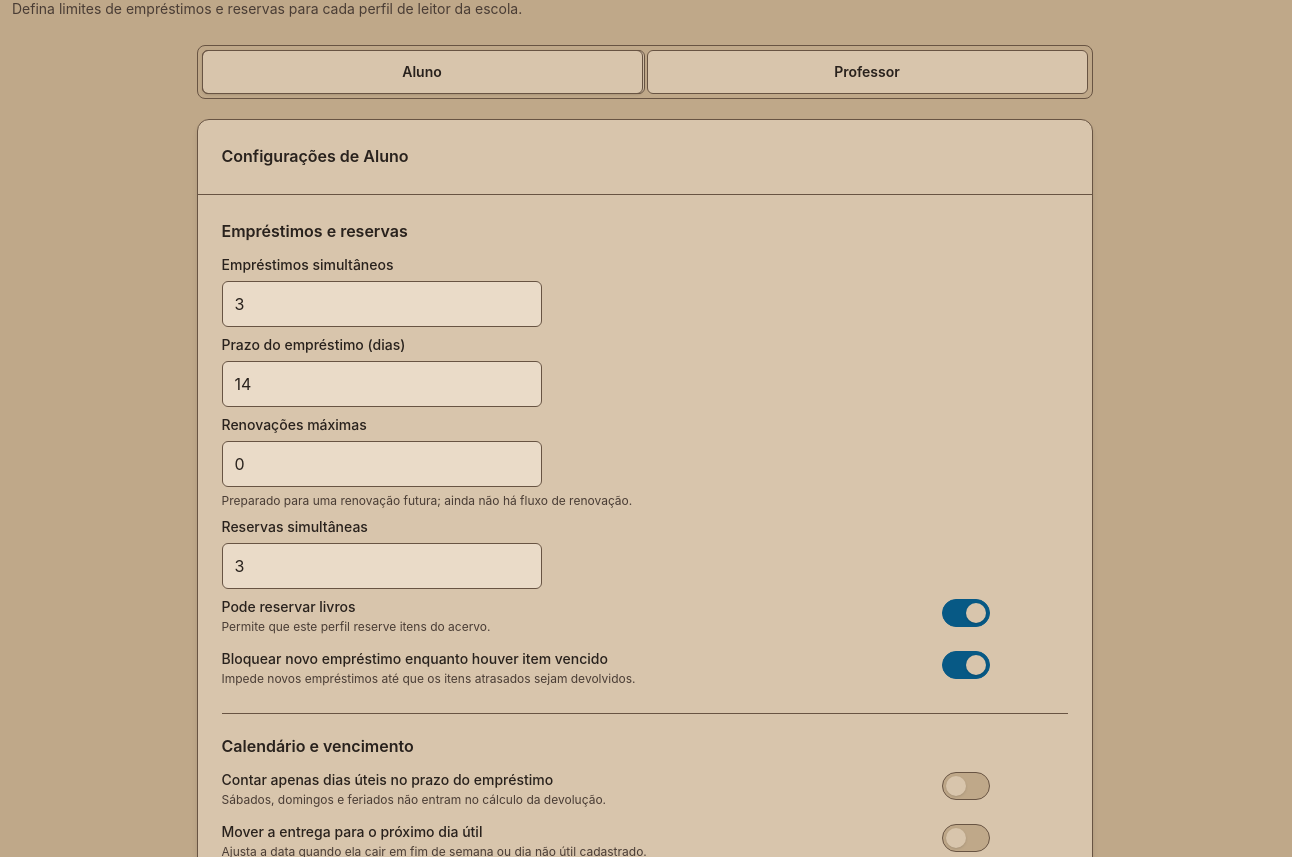
it: CirculationPoliciesPage › shows separate policies and saves both profiles for the own school
Check: the tab "Aluno" is shown, box [202,50,642,94]
Check: the tab "Professor" is shown, box [646,50,1088,94]
Replace the text in the number field labelled "Empréstimos simultâneos" with "2" at (382, 304), box [222,281,542,327]
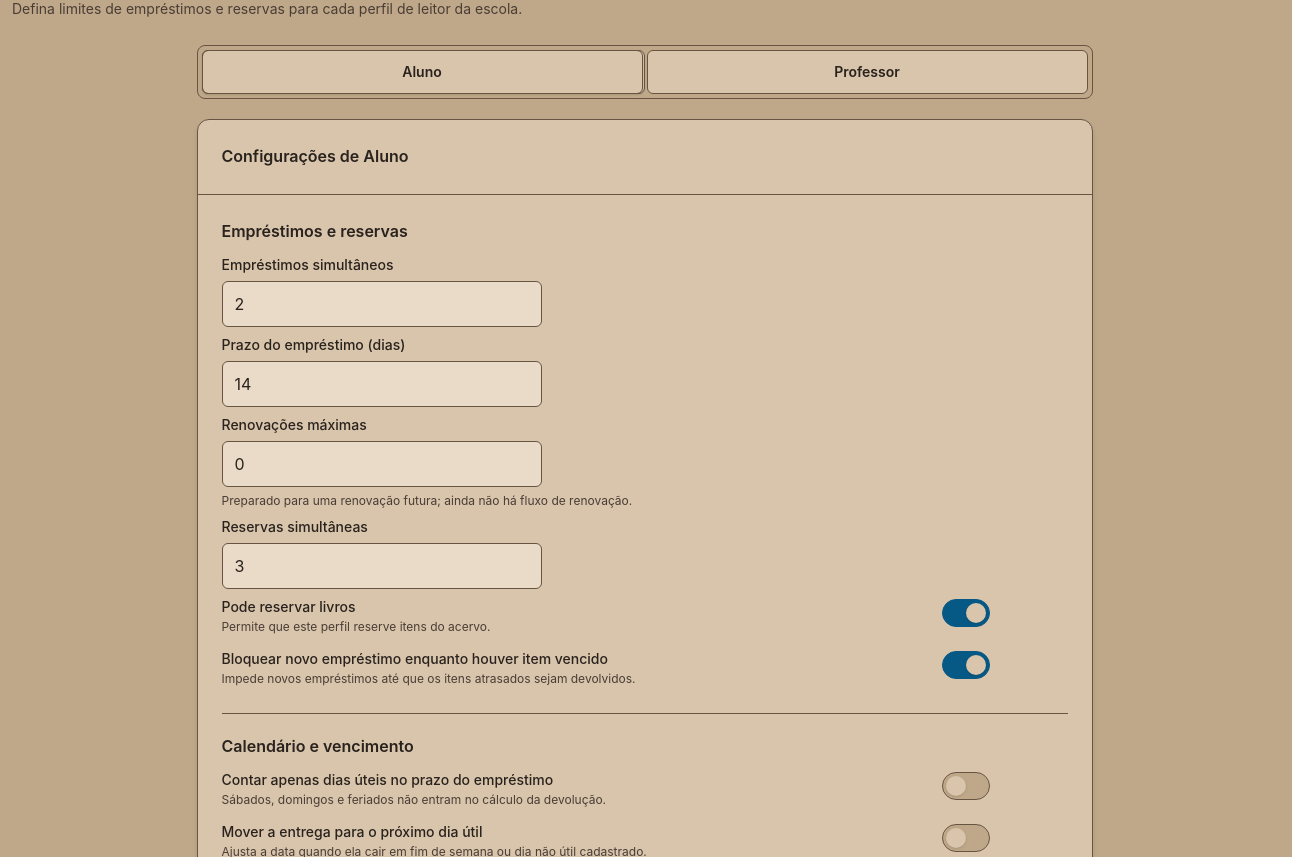
Click the switch labelled "Contar apenas dias úteis no prazo do empréstimo" at (606, 792), box [222,770,990,814]
(page scrolled)
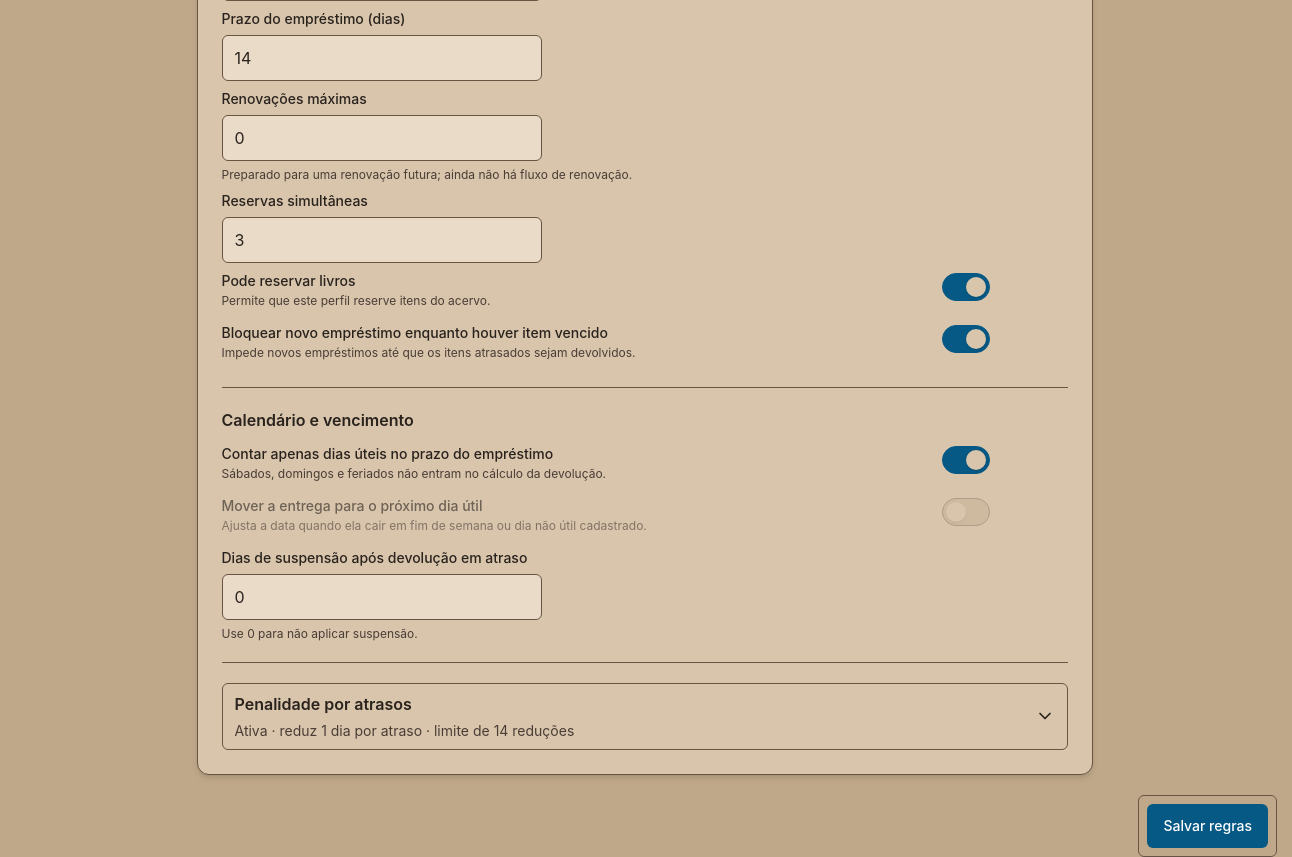
Check: the button "Salvar regras" is enabled
Click the button "Salvar regras" at (1208, 826), box [1147,804,1268,848]
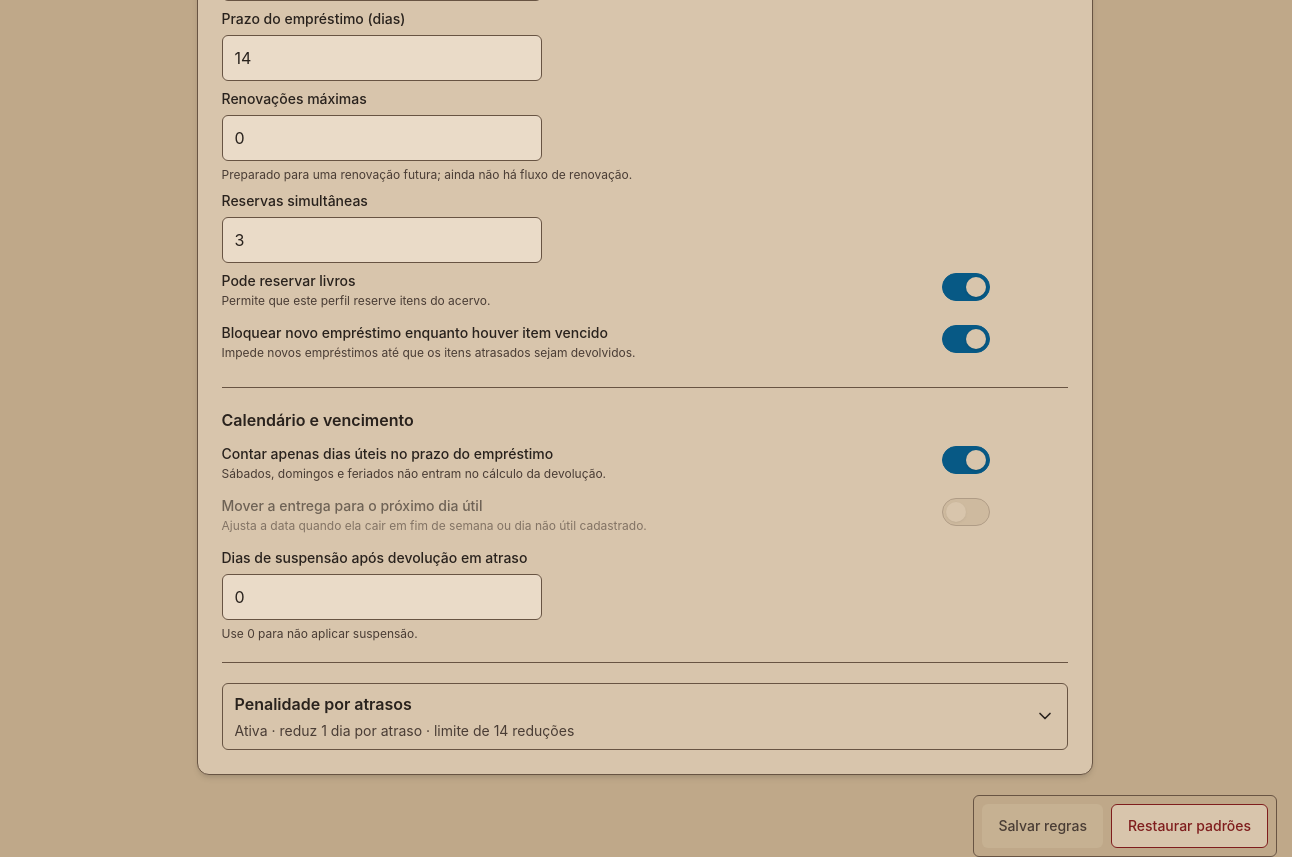
Check: the button "Salvar regras" is disabled, box [982,804,1103,848]
